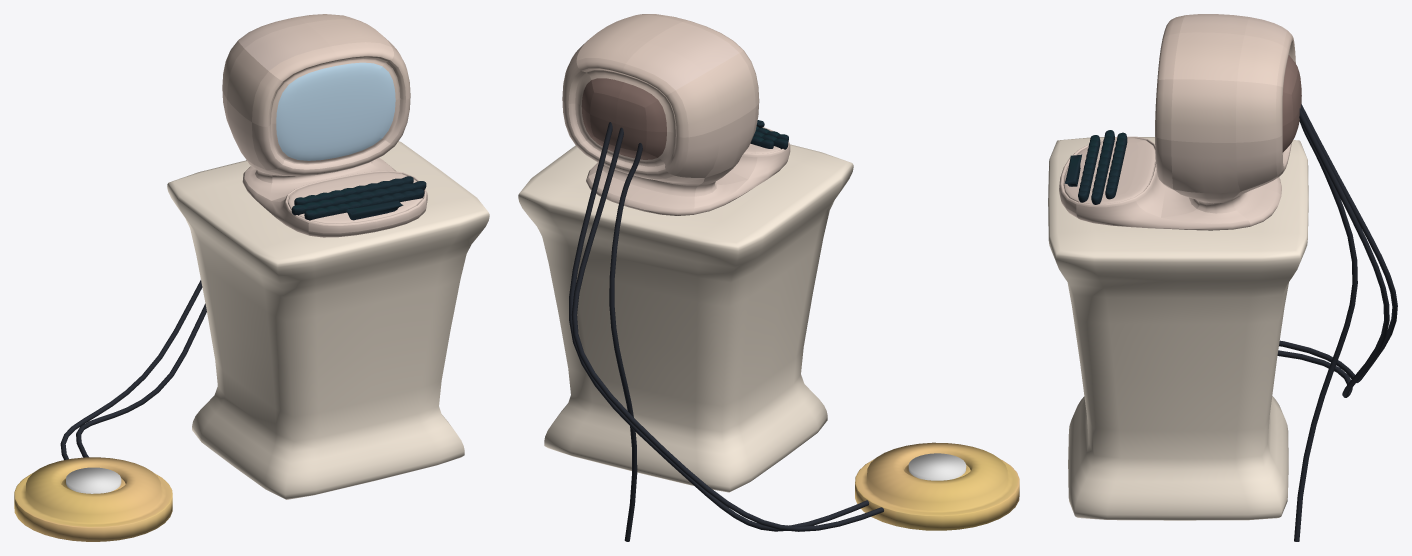
File: ConnectingTerminal2.fbx
The picture shows the model from 3 angles, left to right: view 1: azimuth 30°, elevation 25°; view 2: azimuth 150°, elevation 25°; view 3: azimuth 270°, elevation 25°; orthographic projection. The views are drawn at different scales.
Parts seen in each view (by area): view 1: Cube.020; view 2: Cube.020; view 3: Cube.020.
Part boxes in pixels (<box>): Cube.020: <box>14,14,489,541</box>; Cube.020: <box>518,14,1019,541</box>; Cube.020: <box>1048,14,1397,541</box>.
Size of the model in its own units: 189 by 199 by 123.
